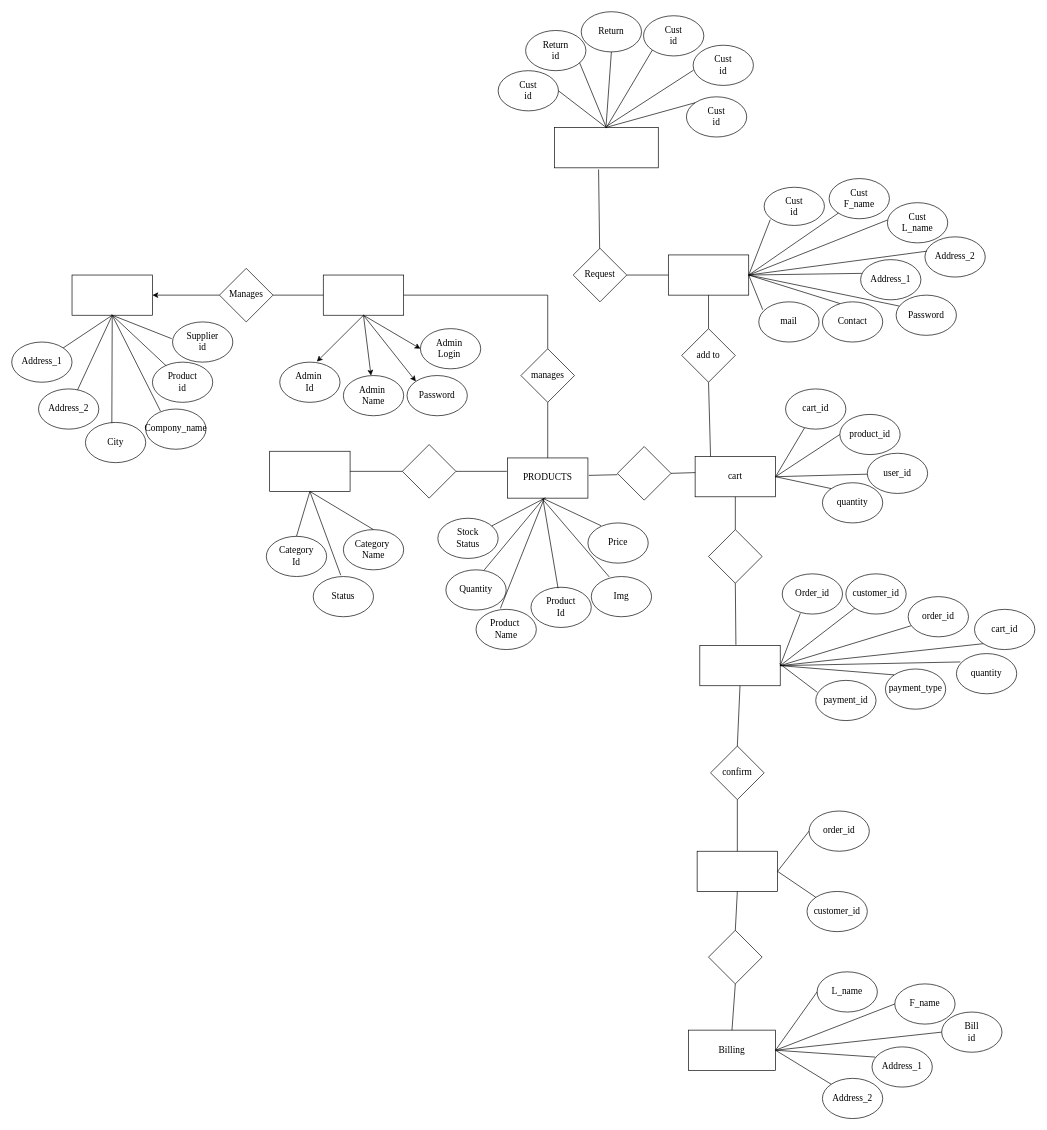
Image size: 1047x1130. Some labels were removed from this diagram. Each missing label, with the box of its shape:
ADMIN: (323, 274, 404, 315)
CATEGORY: (269, 451, 350, 491)
CUSTOMER: (668, 254, 749, 295)
For: (402, 444, 456, 498)
genertaes: (708, 930, 762, 984)
moves to: (617, 446, 671, 500)
Order: (699, 645, 780, 686)
order_details: (696, 851, 778, 891)
place: (708, 529, 762, 583)
RETURN_PRODUCT: (554, 127, 658, 168)
SUPPLIERS: (71, 274, 152, 315)
